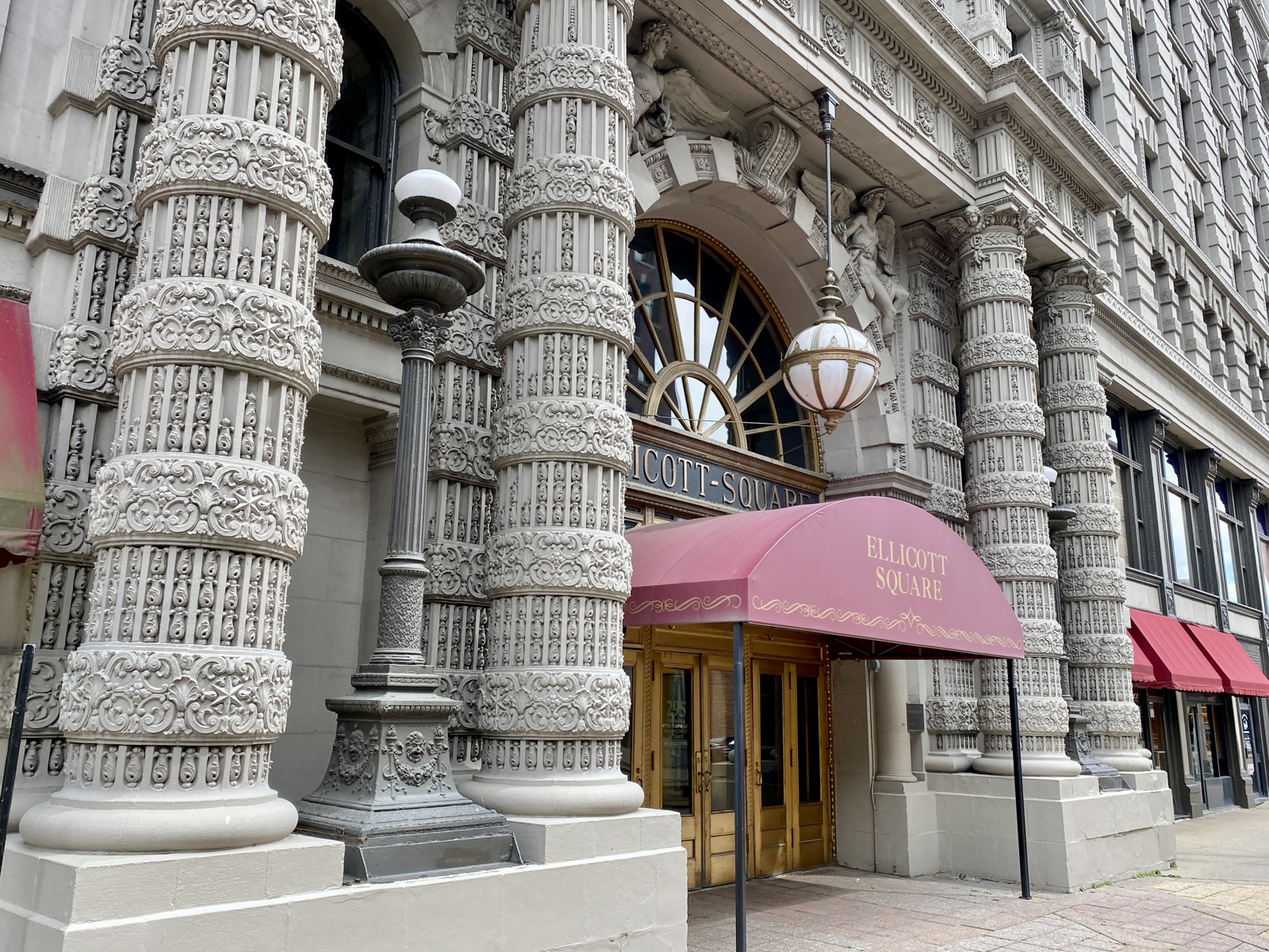fachada: (0, 0, 1269, 878)
poste: (362, 138, 500, 889)
